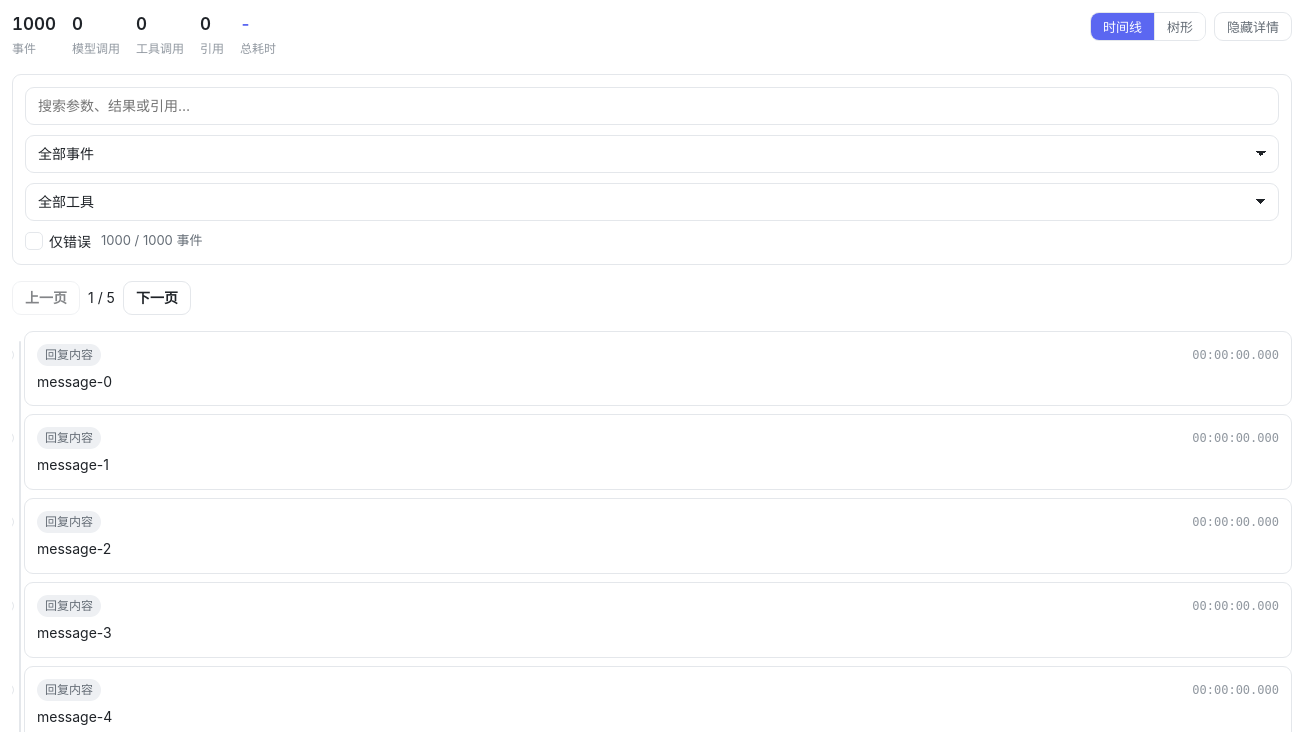
Scenario: TraceTimeline 树形视图 › bounds rendered events while searching the complete history
Click the button "下一页".
click(157, 298)  # box [123,280,191,314]
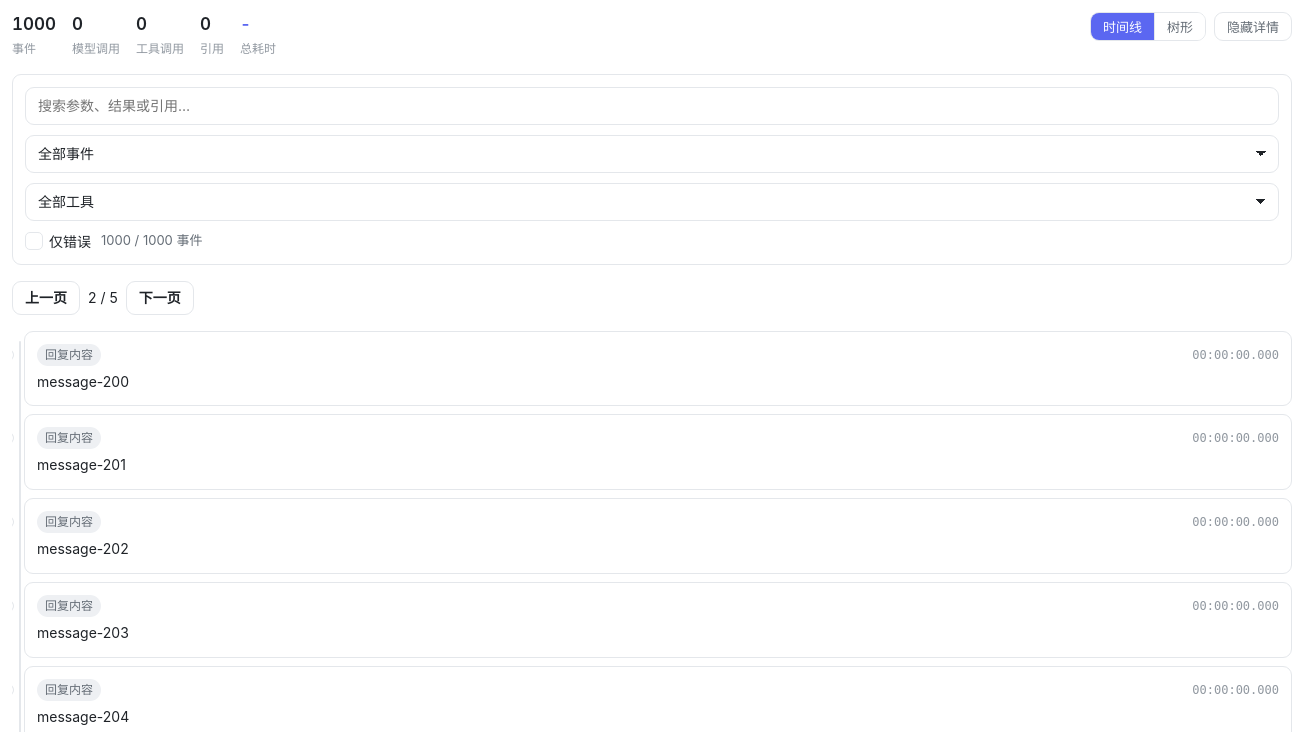
Type "message-999" into the field with placeholder "搜索参数、结果或引用…".
click(652, 106); type("message-999")  # box [25,86,1279,124]
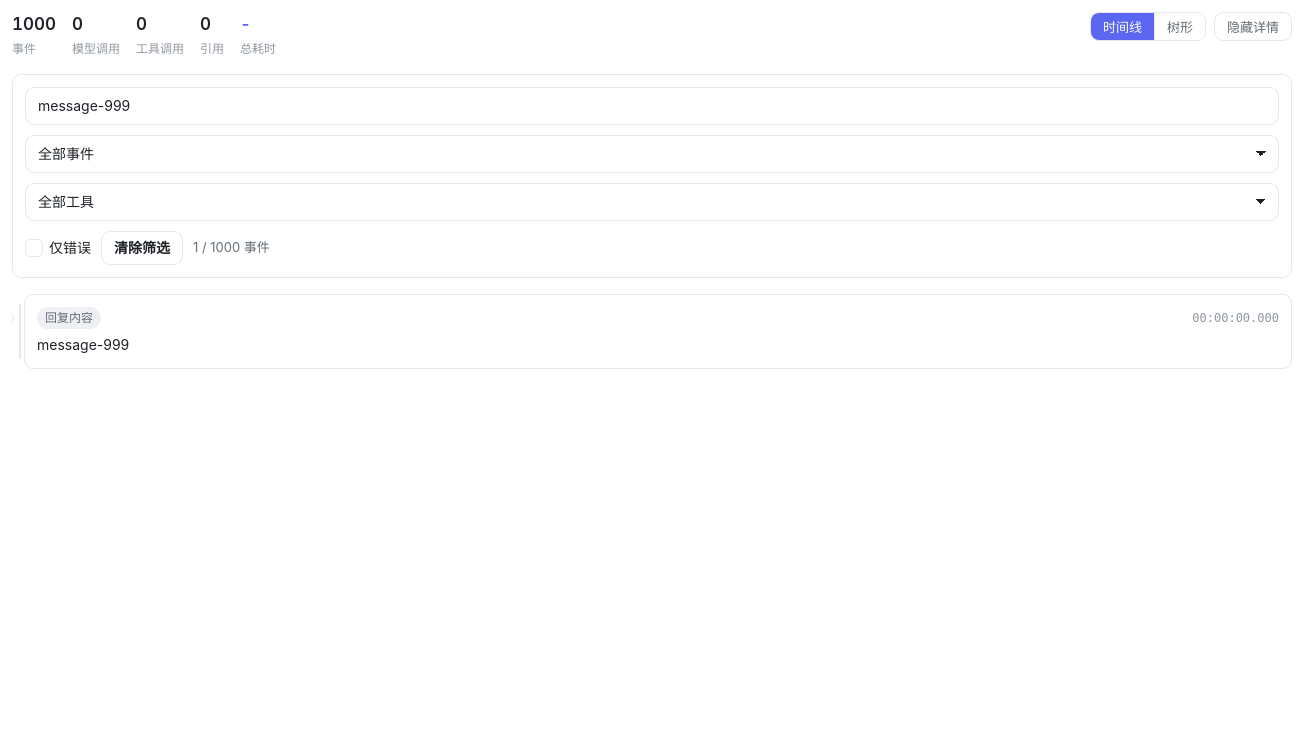
Expected: the number of elements with class "event-card" is 1, [24,294,1292,369]
Expected: the text "message-999" is shown, [37,336,129,352]
